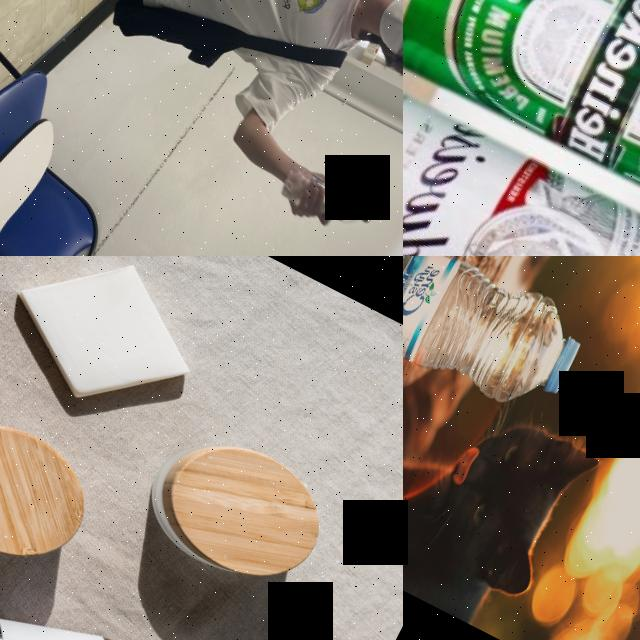bottle: (403, 256, 596, 433), (274, 156, 380, 238)
can: (403, 0, 640, 256), (403, 53, 640, 256)
